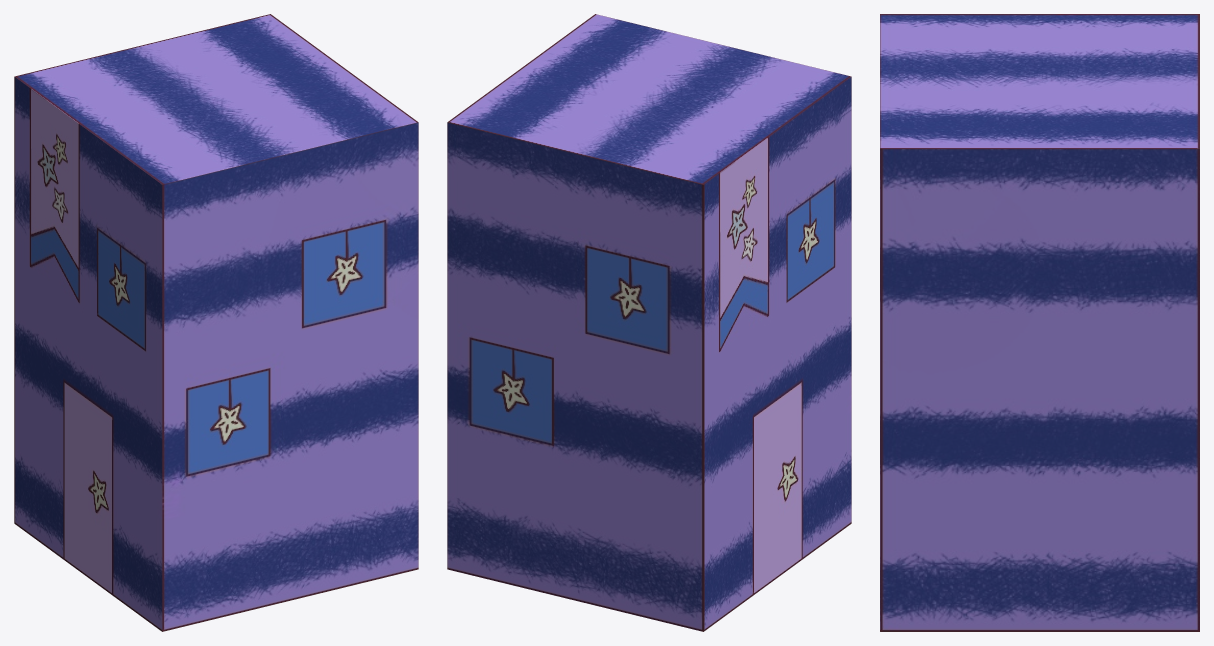
Rendered from D_Building13.fbx.
3 views of the same model, side by side, from view 1: azimuth 30°, elevation 25°; view 2: azimuth 150°, elevation 25°; view 3: azimuth 270°, elevation 25° (orthographic). The views are drawn at different scales.
Parts seen in each view (by area): view 1: Box001; view 2: Box001; view 3: Box001.
Part boxes in pixels (left/top/right/bottom): Box001: left=14, top=14, right=418, bottom=631; Box001: left=447, top=14, right=851, bottom=631; Box001: left=880, top=14, right=1199, bottom=631.
Bounding box in the file's own units: 360 × 600 × 360.
Materials: 1 (1 with a texture image).
